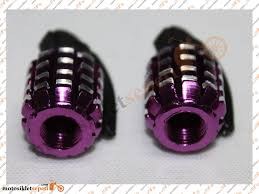e1: (20, 29, 118, 159), (141, 24, 233, 153)
